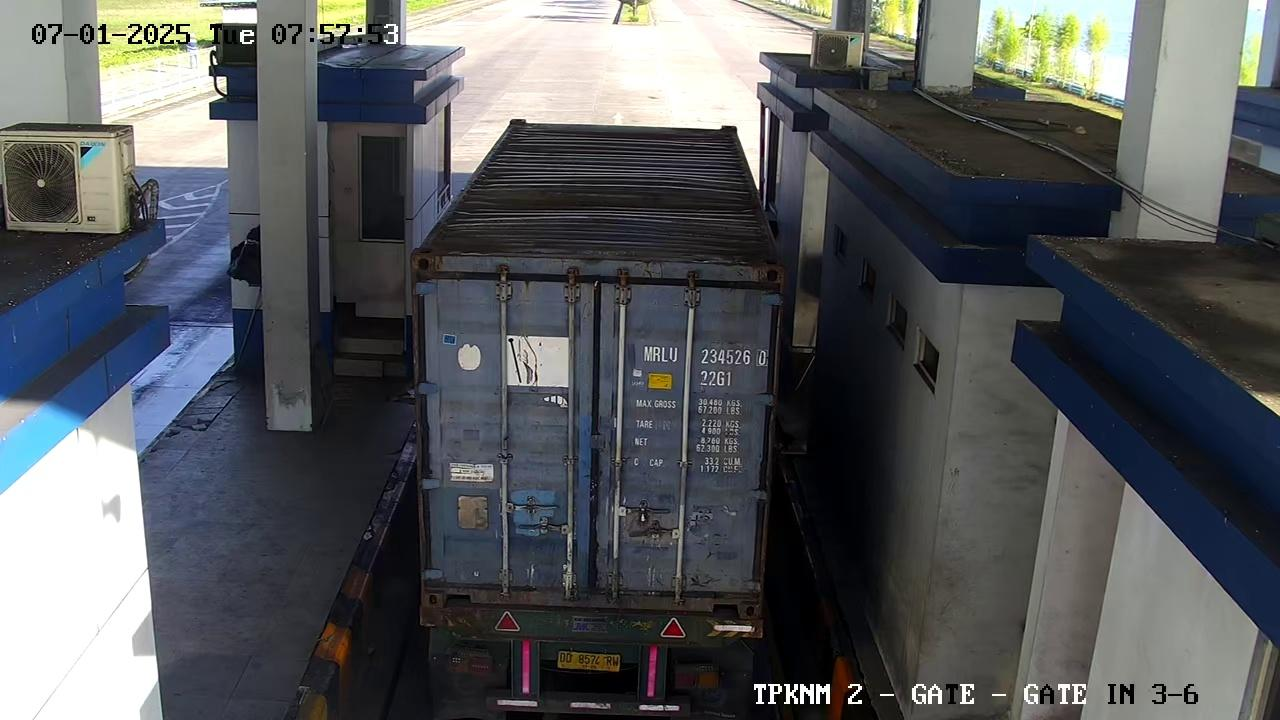Container_ID: (628, 343, 783, 369)
plate_number: (545, 640, 631, 684)
